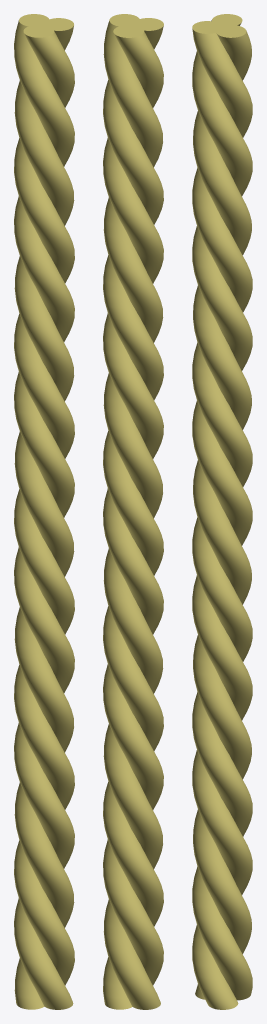
File: pasted__gold_23.fbx
3 renders of one model, left to right at view 1: azimuth 30°, elevation 25°; view 2: azimuth 150°, elevation 25°; view 3: azimuth 330°, elevation 25°, orthographic.
Visible parts, largest first — view 1: pasted__Node_1146; view 2: pasted__Node_1146; view 3: pasted__Node_1146.
Boxes of the visible parts, <box> form: pasted__Node_1146: <box>14,14,74,1009</box>; pasted__Node_1146: <box>103,14,163,1009</box>; pasted__Node_1146: <box>192,14,252,1009</box>.
Size of the model in its own units: 11.56 by 11.48 by 203.
